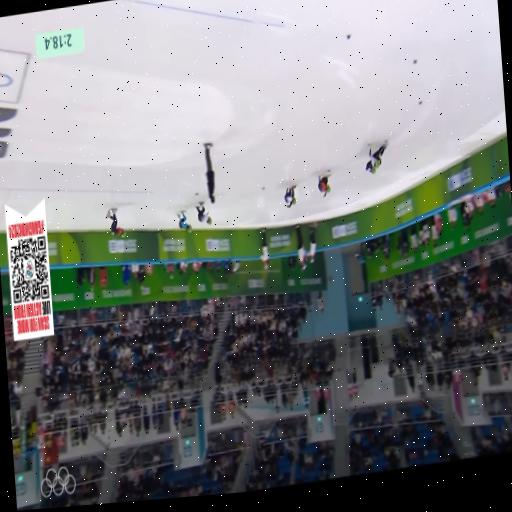Skater: (365, 141, 387, 173), (105, 209, 125, 236), (196, 203, 211, 223), (177, 211, 191, 232), (283, 185, 295, 207), (318, 174, 329, 196)
